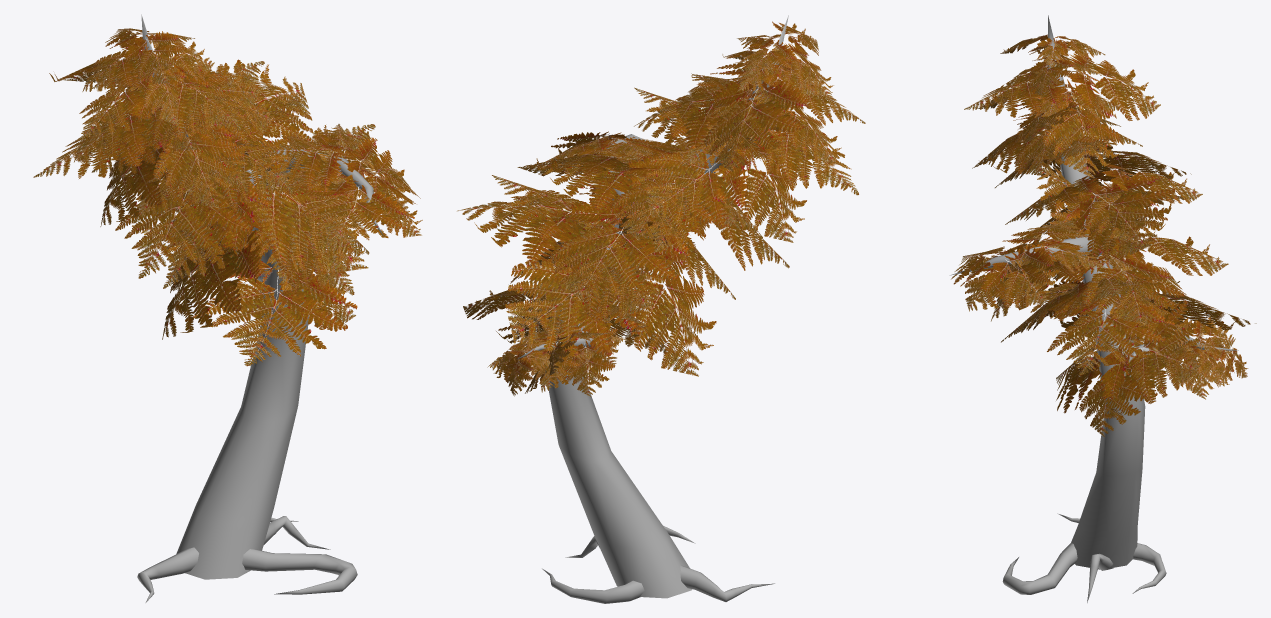
Rendered from air_treeGeneric_01_mesh.fbx.
3 renders of one model, left to right at view 1: azimuth 30°, elevation 25°; view 2: azimuth 150°, elevation 25°; view 3: azimuth 270°, elevation 25°, orthographic. The views are drawn at different scales.
Visible parts, largest first — view 1: air_tree_01_mesh; view 2: air_tree_01_mesh; view 3: air_tree_01_mesh.
Boxes of the visible parts, <box> form: air_tree_01_mesh: <box>33,14,422,602</box>; air_tree_01_mesh: <box>457,15,865,603</box>; air_tree_01_mesh: <box>949,15,1256,602</box>.
Size of the model in its own units: 1895 by 2775 by 1655.
